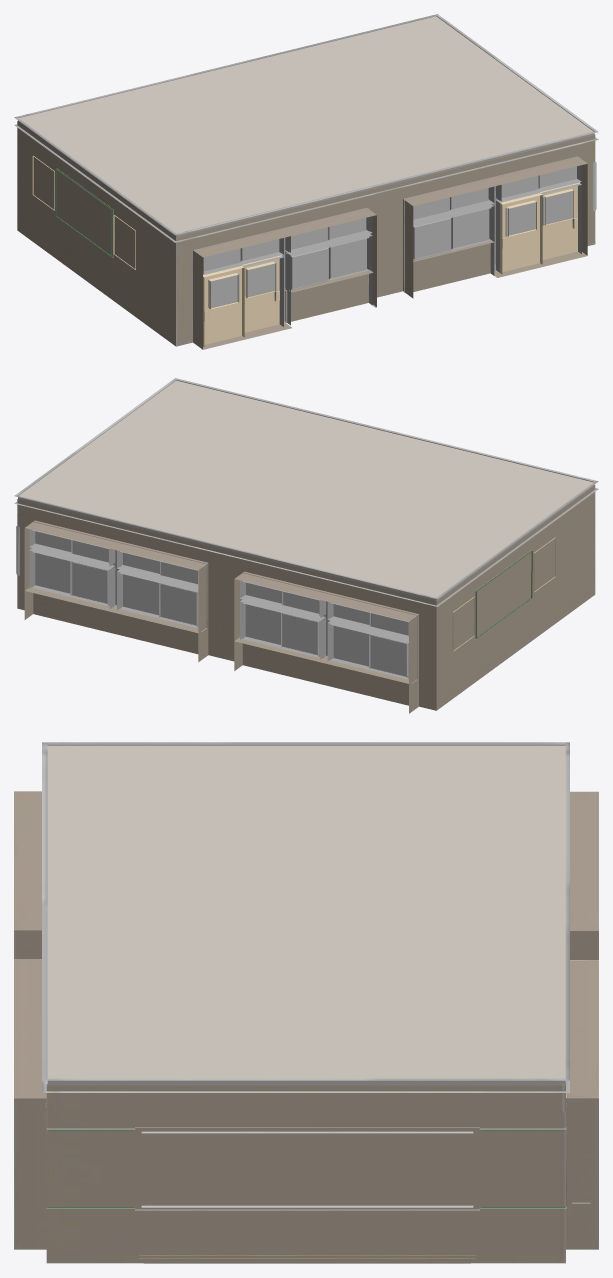
Rendered from japanese_classroom.glb.
The picture shows the model from 3 angles, top to bottom: view 1: azimuth 30°, elevation 25°; view 2: azimuth 150°, elevation 25°; view 3: azimuth 270°, elevation 25°; orthographic projection. The views are drawn at different scales.
Parts seen in each view (by area): view 1: ROOF:polySurface21, DER, NORTHANDSOUTH, BORDE_METAL, PUERTA_3, PUERTA_4, MARCO_DER_N, MARCO_DER_N2, PUERTA_5, PUERTA_1, VENTANA_CRISTAL23, VENTANA_CRISTAL16 (+16 smaller); view 2: ROOF:polySurface21, IZQ, NORTHANDSOUTH, BORDE_METAL, MARCO_IZQ_N, MARCO_IZQ_N2, VENTANA_CRISTAL4, VENTANA_CRISTAL8, VENTANA_CRISTAL12, VENTANA_CRISTAL, VENTANA_CRISTAL13, VENTANA_CRISTAL1 (+16 smaller); view 3: ROOF:polySurface21, NORTHANDSOUTH, IZQ, DER, BORDE_METAL, MARCO_GRANDE.
Boxes of the visible parts, box(x1,y1,x2,y2) form: ROOF:polySurface21: box(19, 16, 593, 233); DER: box(176, 135, 595, 349); NORTHANDSOUTH: box(17, 121, 595, 346); BORDE_METAL: box(14, 14, 598, 242); PUERTA_3: box(500, 193, 542, 274); PUERTA_4: box(203, 266, 244, 346); MARCO_DER_N: box(404, 157, 581, 292); MARCO_DER_N2: box(195, 208, 372, 326); PUERTA_5: box(241, 255, 281, 332); PUERTA_1: box(539, 182, 580, 259); VENTANA_CRISTAL23: box(291, 248, 328, 290); VENTANA_CRISTAL16: box(413, 218, 450, 260); ROOF:polySurface21: box(19, 380, 593, 597); IZQ: box(17, 499, 436, 713); NORTHANDSOUTH: box(436, 485, 595, 710); BORDE_METAL: box(14, 378, 598, 606); MARCO_IZQ_N: box(29, 521, 207, 631); MARCO_IZQ_N2: box(240, 572, 417, 683); VENTANA_CRISTAL4: box(160, 583, 197, 625); VENTANA_CRISTAL8: box(371, 634, 407, 676); VENTANA_CRISTAL12: box(283, 613, 318, 654); VENTANA_CRISTAL: box(72, 562, 107, 603); VENTANA_CRISTAL13: box(245, 604, 281, 644); VENTANA_CRISTAL1: box(35, 553, 70, 593); ROOF:polySurface21: box(47, 745, 565, 1078); NORTHANDSOUTH: box(46, 1084, 565, 1263); IZQ: box(566, 791, 598, 1249); DER: box(14, 791, 46, 1249); BORDE_METAL: box(42, 742, 569, 1092); MARCO_GRANDE: box(135, 1127, 479, 1210).
Bounding box in the file's own units: 12.77 × 3.26 × 9.33.
11 materials, 9 textured.
